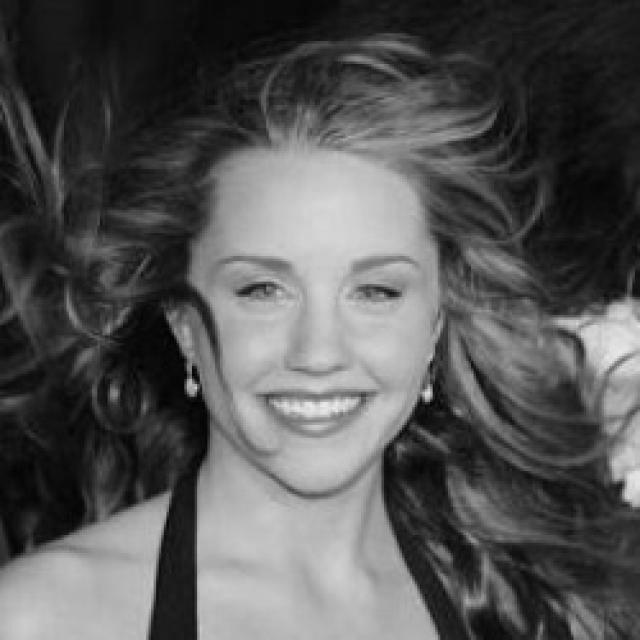real: (184, 144, 440, 499), (209, 254, 410, 320)
